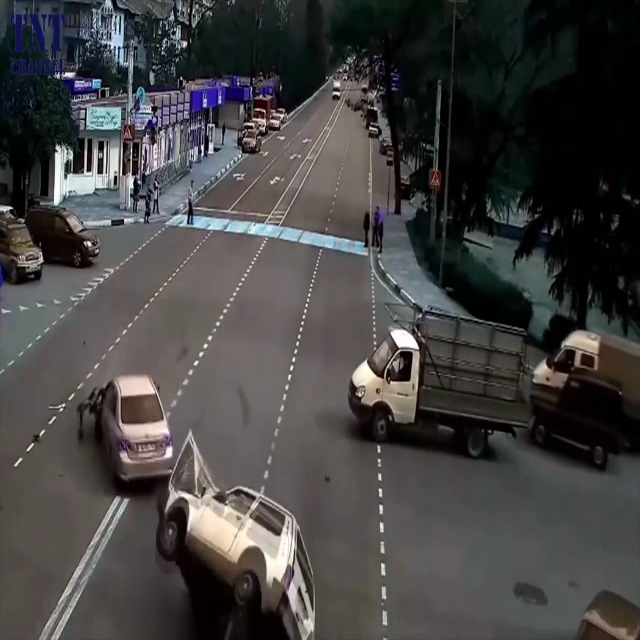acc: (72, 374, 318, 638)
